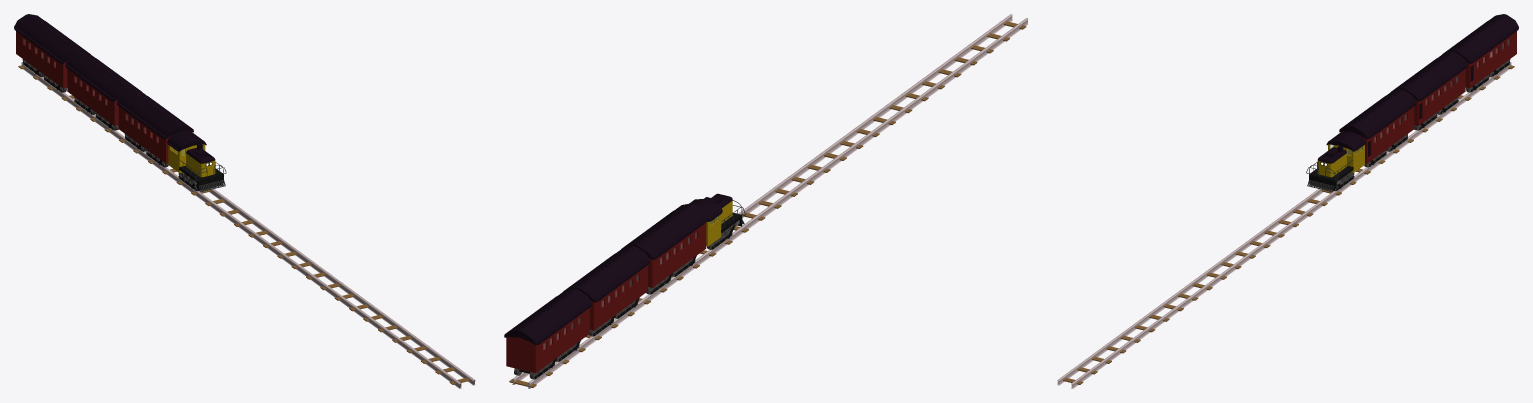
File: tren_index2.glb
The picture shows the model from 3 angles, left to right: view 1: azimuth 30°, elevation 25°; view 2: azimuth 150°, elevation 25°; view 3: azimuth 330°, elevation 25°; orthographic projection. The views are drawn at different scales.
Visible parts, largest first — view 1: linea_de_tren, pCube4, pCube4.001, pCube4.002, pCube3, pCube1, pCube2; view 2: linea_de_tren, pCube4.002, pCube4, pCube4.001, pCube3; view 3: linea_de_tren, pCube4, pCube4.001, pCube4.002, pCube3, pCube1, pCube2.
Boxes of the visible parts, x1,y1,x2,y2 form: linea_de_tren: [18, 62, 475, 388]; pCube4: [117, 89, 193, 163]; pCube4.001: [65, 51, 141, 125]; pCube4.002: [14, 14, 90, 88]; pCube3: [167, 131, 206, 172]; pCube1: [186, 143, 215, 177]; pCube2: [179, 165, 223, 190]; linea_de_tren: [509, 14, 1028, 388]; pCube4.002: [504, 288, 591, 373]; pCube4: [621, 203, 708, 287]; pCube4.001: [563, 246, 649, 330]; pCube3: [689, 199, 722, 246]; linea_de_tren: [1057, 62, 1514, 388]; pCube4: [1339, 89, 1416, 163]; pCube4.001: [1391, 51, 1467, 125]; pCube4.002: [1443, 14, 1518, 88]; pCube3: [1326, 131, 1365, 173]; pCube1: [1317, 145, 1346, 177]; pCube2: [1309, 165, 1353, 190].
Bounding box in the file's own units: 1.07 × 1.67 × 25.71.
